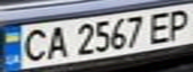2: (72, 20, 96, 56)
5: (90, 18, 115, 53)
6: (109, 16, 130, 51)
7: (124, 12, 151, 47)
A: (42, 22, 72, 60)
C: (15, 26, 51, 63)
E: (145, 9, 175, 44)
P: (163, 6, 193, 40)
